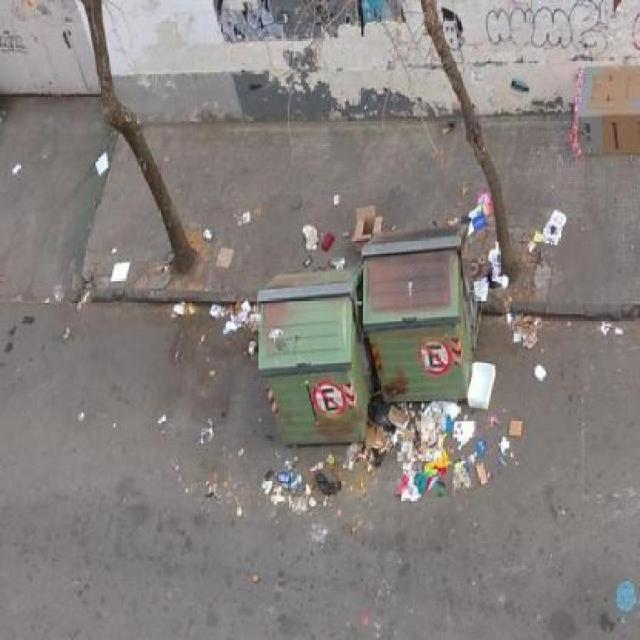garbage: (368, 397, 495, 504), (265, 454, 344, 522), (299, 214, 352, 280), (328, 191, 380, 251), (465, 202, 492, 316), (469, 353, 496, 446), (217, 294, 256, 358), (540, 200, 568, 284), (203, 228, 236, 290), (106, 254, 134, 298), (528, 354, 550, 395), (500, 416, 524, 446)
